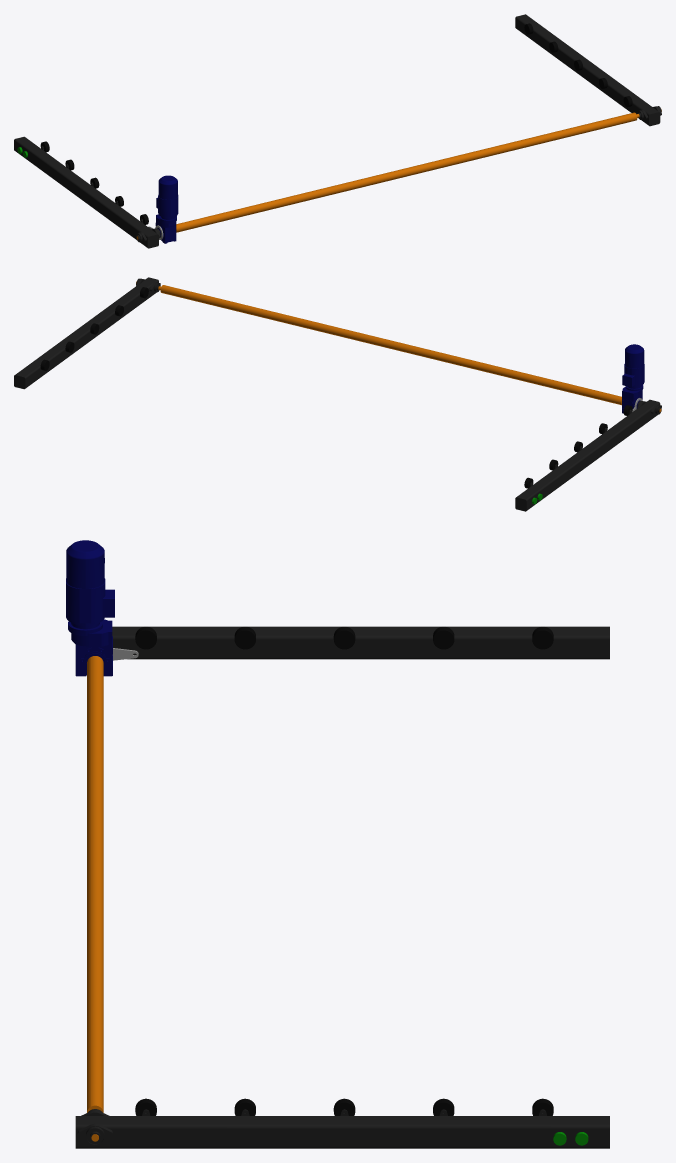
Rendered from SHELF-B-1.obj.
The picture shows the model from 3 angles, top to bottom: view 1: azimuth 30°, elevation 25°; view 2: azimuth 150°, elevation 25°; view 3: azimuth 270°, elevation 25°; orthographic projection. The views are drawn at different scales.
Visible parts, largest first — view 1: P072622; view 2: P072622; view 3: P072622.
Boxes of the visible parts, x1,y1,x2,y2 form: P072622: [14, 14, 661, 248]; P072622: [14, 277, 661, 511]; P072622: [66, 540, 609, 1148].
Size of the model in its own units: 5509 by 634 by 2478.
